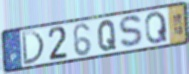2: (47, 25, 70, 62)
6: (72, 22, 93, 59)
D: (20, 29, 46, 66)
Q: (144, 10, 169, 46), (97, 19, 117, 53)
S: (117, 14, 146, 50)
